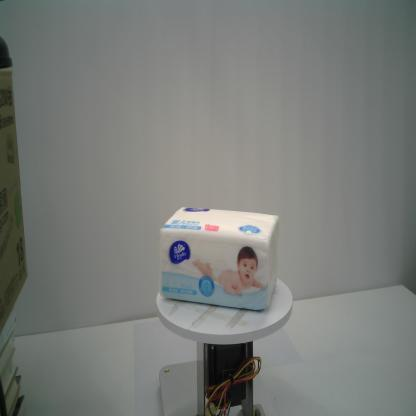Tissue: (159, 206, 280, 312)
